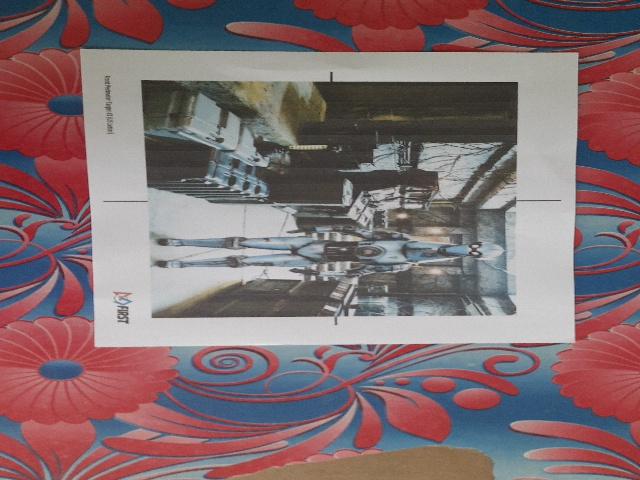fpt1: (91, 55, 559, 329)
